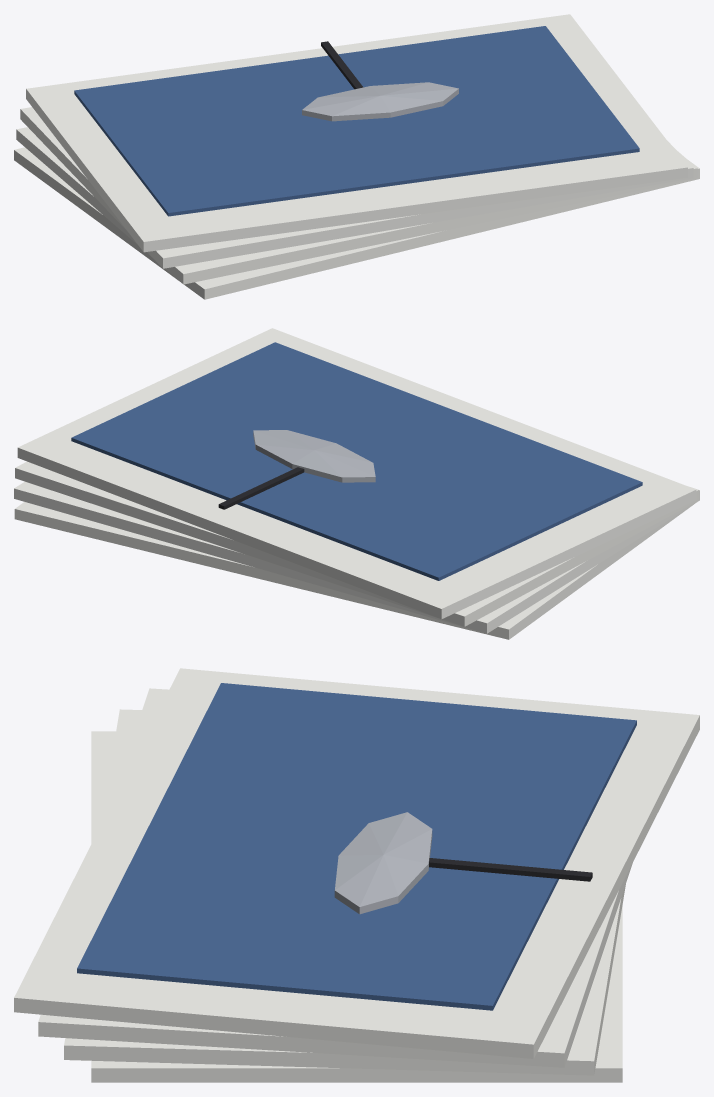
The model's file is ufo_photos.glb.
The picture shows the model from 3 angles, top to bottom: view 1: azimuth 30°, elevation 25°; view 2: azimuth 150°, elevation 25°; view 3: azimuth 270°, elevation 25°; orthographic projection. The views are drawn at different scales.
Visible parts, largest first — view 1: sky_photo_sky, photos_photo_white (×4), saucer_photo_saucer, string_photo_string; view 2: sky_photo_sky, photos_photo_white (×4), saucer_photo_saucer, string_photo_string; view 3: sky_photo_sky, photos_photo_white (×4), saucer_photo_saucer, string_photo_string.
Part boxes in pixels (bbox=[...]): sky_photo_sky: bbox=[74, 26, 639, 216]; photos_photo_white (×4): bbox=[14, 14, 699, 299]; saucer_photo_saucer: bbox=[302, 82, 458, 121]; string_photo_string: bbox=[321, 41, 363, 89]; sky_photo_sky: bbox=[71, 342, 642, 580]; photos_photo_white (×4): bbox=[14, 328, 699, 639]; saucer_photo_saucer: bbox=[253, 430, 375, 482]; string_photo_string: bbox=[218, 467, 304, 509]; sky_photo_sky: bbox=[77, 683, 636, 1010]; photos_photo_white (×4): bbox=[14, 668, 699, 1082]; saucer_photo_saucer: bbox=[334, 812, 432, 914]; string_photo_string: bbox=[429, 858, 592, 881].
Size of the model in its own units: 0.1676 by 0.017 by 0.1291.
